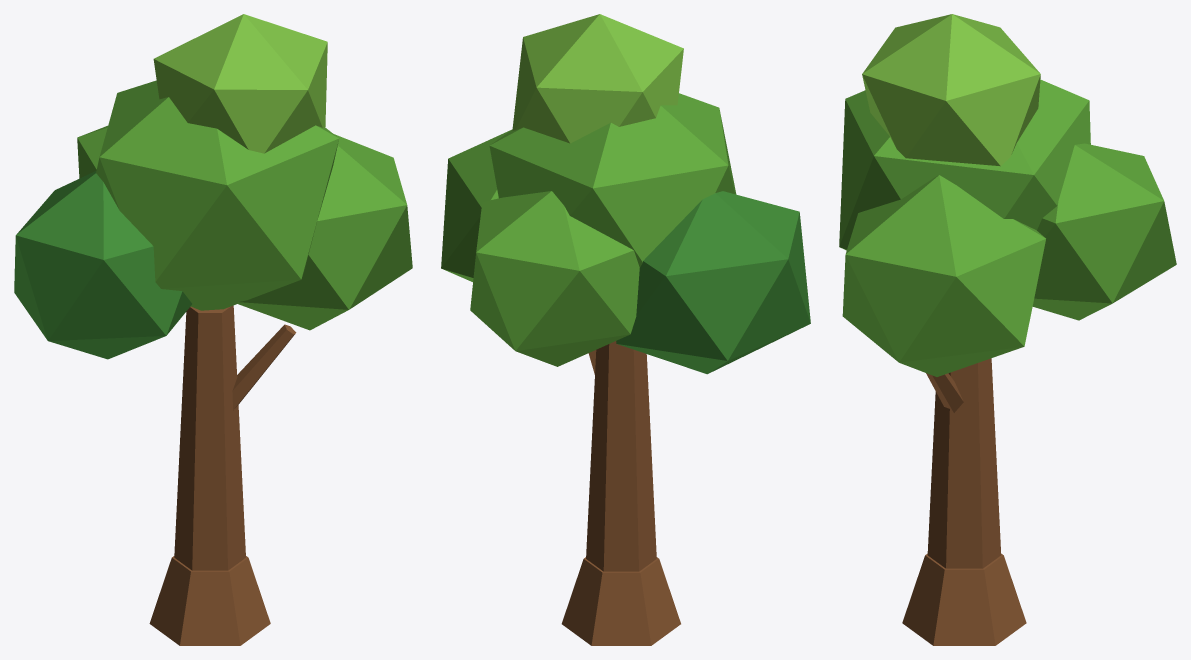
File: small_tree.glb
3 views of the same model, side by side, from view 1: azimuth 30°, elevation 25°; view 2: azimuth 150°, elevation 25°; view 3: azimuth 270°, elevation 25° (orthographic). The views are drawn at different scales.
Parts seen in each view (by area): view 1: part_crown, small_tree; view 2: part_crown, small_tree; view 3: part_crown, small_tree.
Boxes of the visible parts, left/top/right/bottom form: part_crown: left=14, top=14, right=412, bottom=359; small_tree: left=149, top=305, right=296, bottom=645; part_crown: left=441, top=14, right=810, bottom=374; small_tree: left=561, top=341, right=680, bottom=645; part_crown: left=839, top=14, right=1176, bottom=376; small_tree: left=902, top=358, right=1026, bottom=645.
Size of the model in its own units: 1.6 by 2.57 by 1.26.
